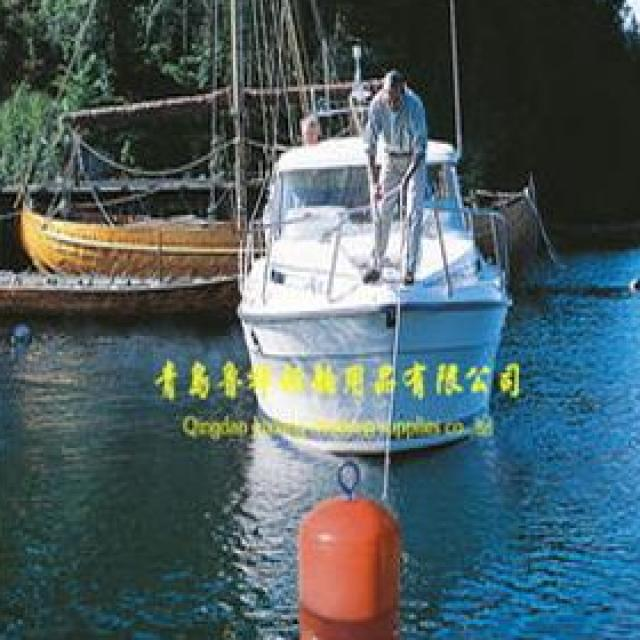buoy: (277, 459, 417, 639)
fishing boat: (203, 72, 516, 457)
